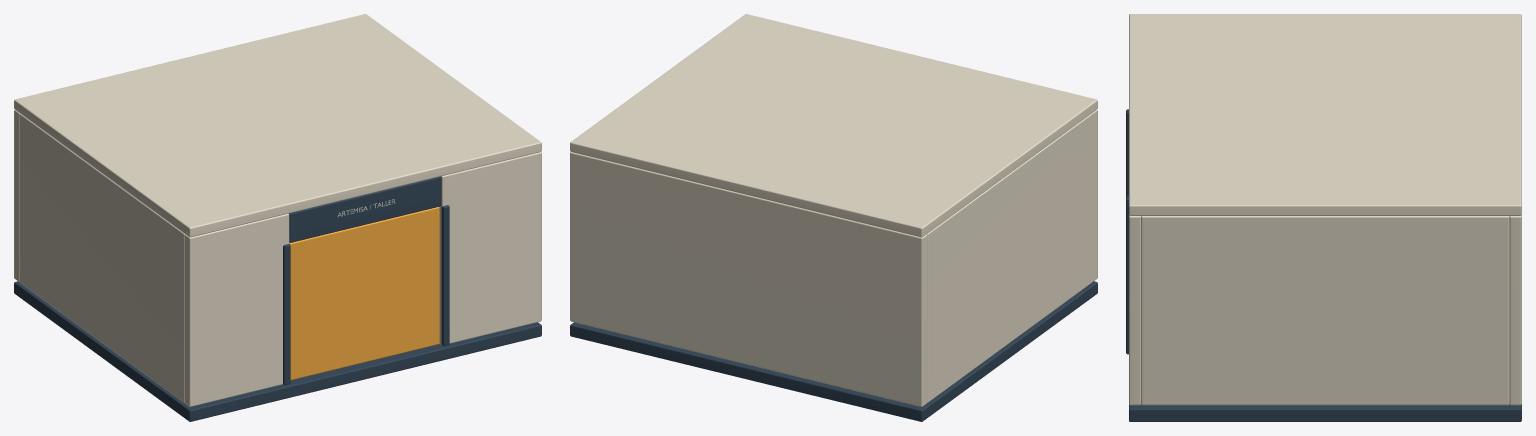
The model's file is workshop.glb.
The picture shows the model from 3 angles, left to right: view 1: azimuth 30°, elevation 25°; view 2: azimuth 150°, elevation 25°; view 3: azimuth 270°, elevation 25°; orthographic projection. The views are drawn at different scales.
Visible parts, largest first — view 1: Body, Cover, Door_0, Door_2, Door_1; view 2: Body, Cover; view 3: Body, Cover, Door_2.
Boxes of the visible parts, box(x1,y1,x2,y2) form: Body: box(14, 110, 541, 421); Cover: box(14, 14, 541, 237); Door_0: box(289, 207, 439, 380); Door_2: box(441, 205, 449, 346); Door_1: box(283, 244, 290, 384); Body: box(570, 110, 1097, 421); Cover: box(570, 14, 1097, 237); Body: box(1129, 215, 1521, 421); Cover: box(1129, 14, 1521, 215); Door_2: box(1126, 196, 1128, 354).
Bounding box in the file's own units: 7.4 × 3.9 × 6.44.
